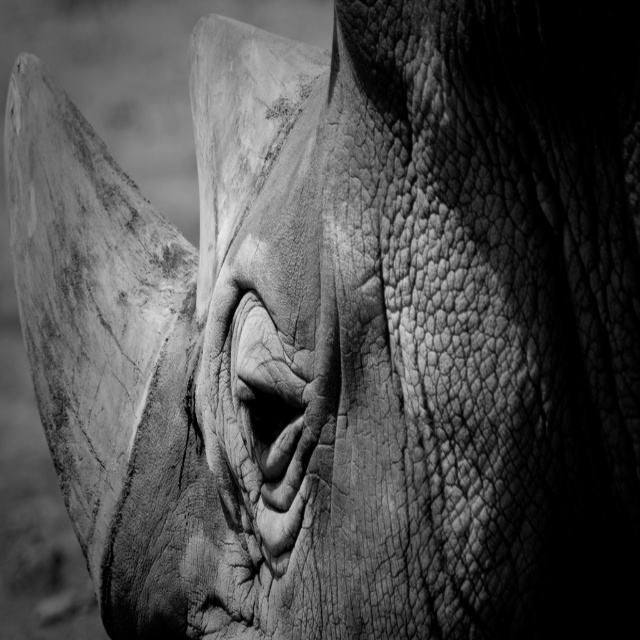Rhinoceros: (2, 0, 640, 639)
